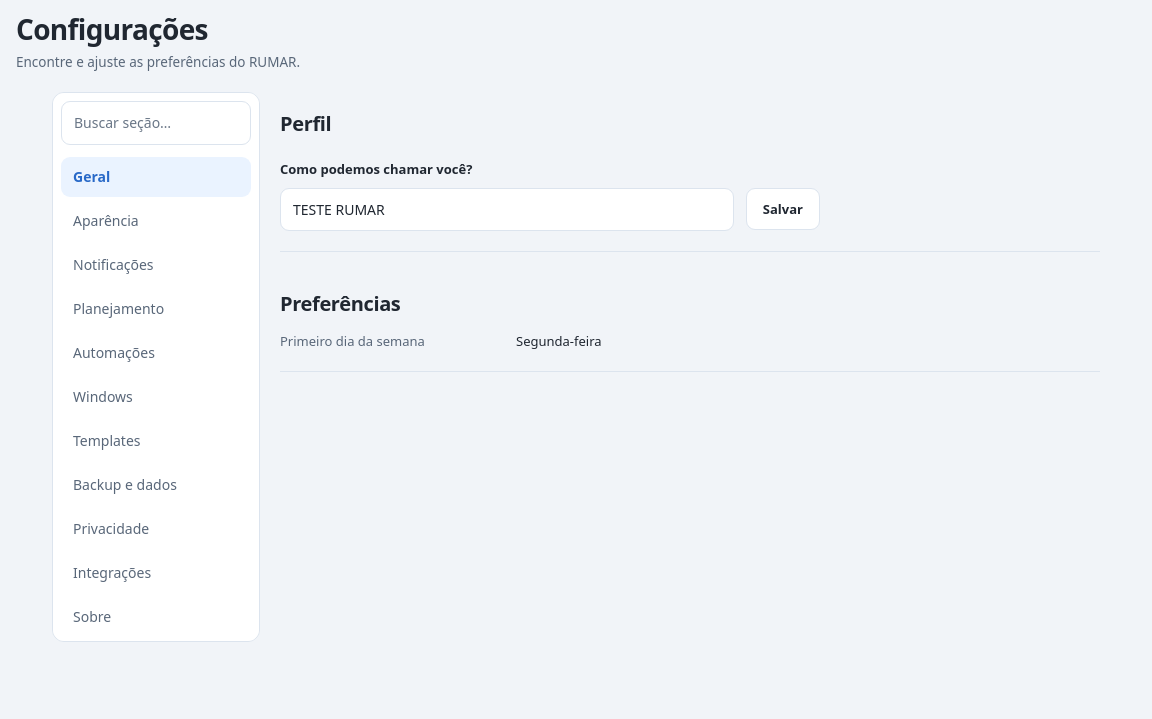
Test: keeps backup schedule, retention, health and recovery actions accessible
The width and height of the screenshot is (1152, 719).
Click the button "Backup e dados" at [156, 485], box top-left (61, 465), bottom-right (251, 505)
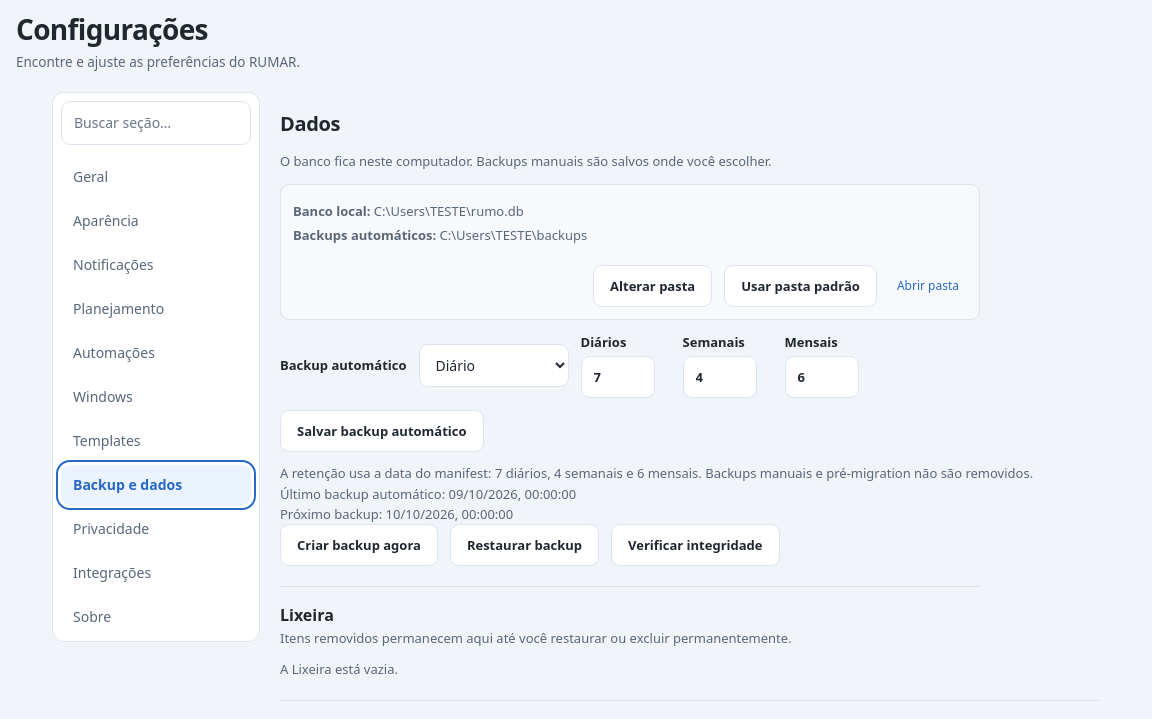
Now the text "C:\\Users\\TESTE\\backups" is shown, box top-left (440, 226), bottom-right (587, 244)
Now the dropdown labelled "Backup automático" shows "Diário", box top-left (418, 344), bottom-right (568, 387)
Now the number field labelled "Diários" holds "7", box top-left (580, 356), bottom-right (654, 398)
Click the button "Verificar integridade" at [695, 545], box top-left (611, 524), bottom-right (780, 566)
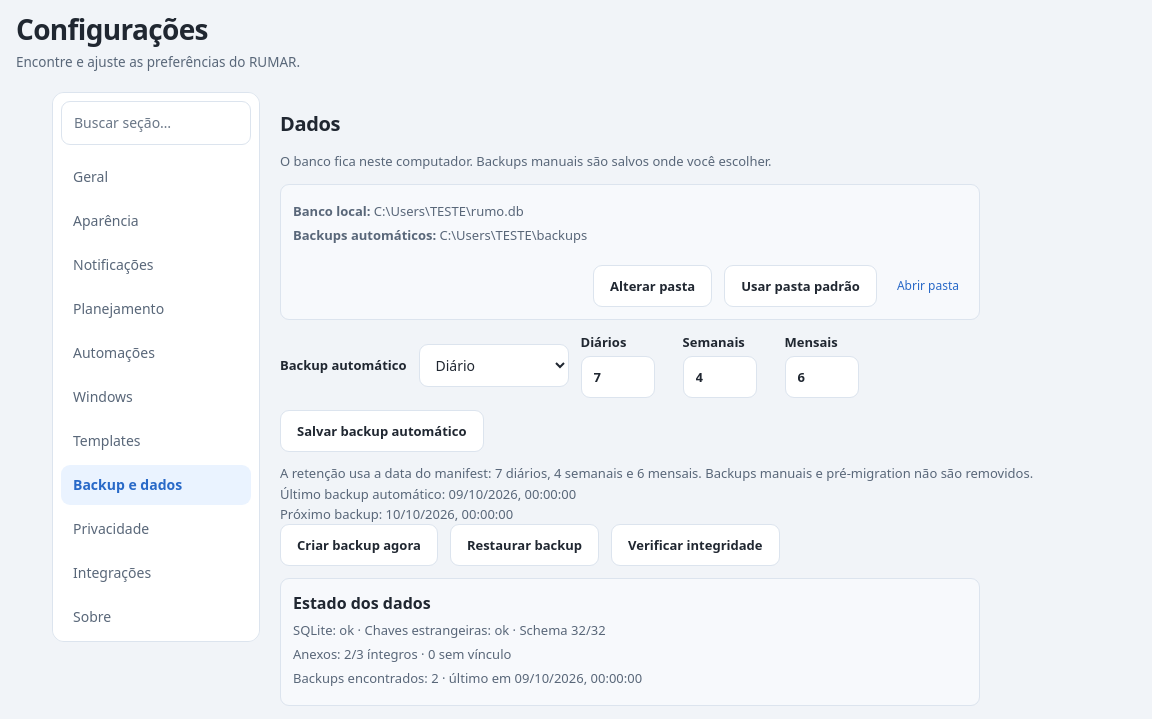
Now the text "SQLite: ok · Chaves estrangeiras: ok · Schema 32/32" is shown, box top-left (293, 621), bottom-right (606, 639)
Now the text "Anexos: 2/3 íntegros · 0 sem vínculo" is shown, box top-left (293, 645), bottom-right (511, 663)
